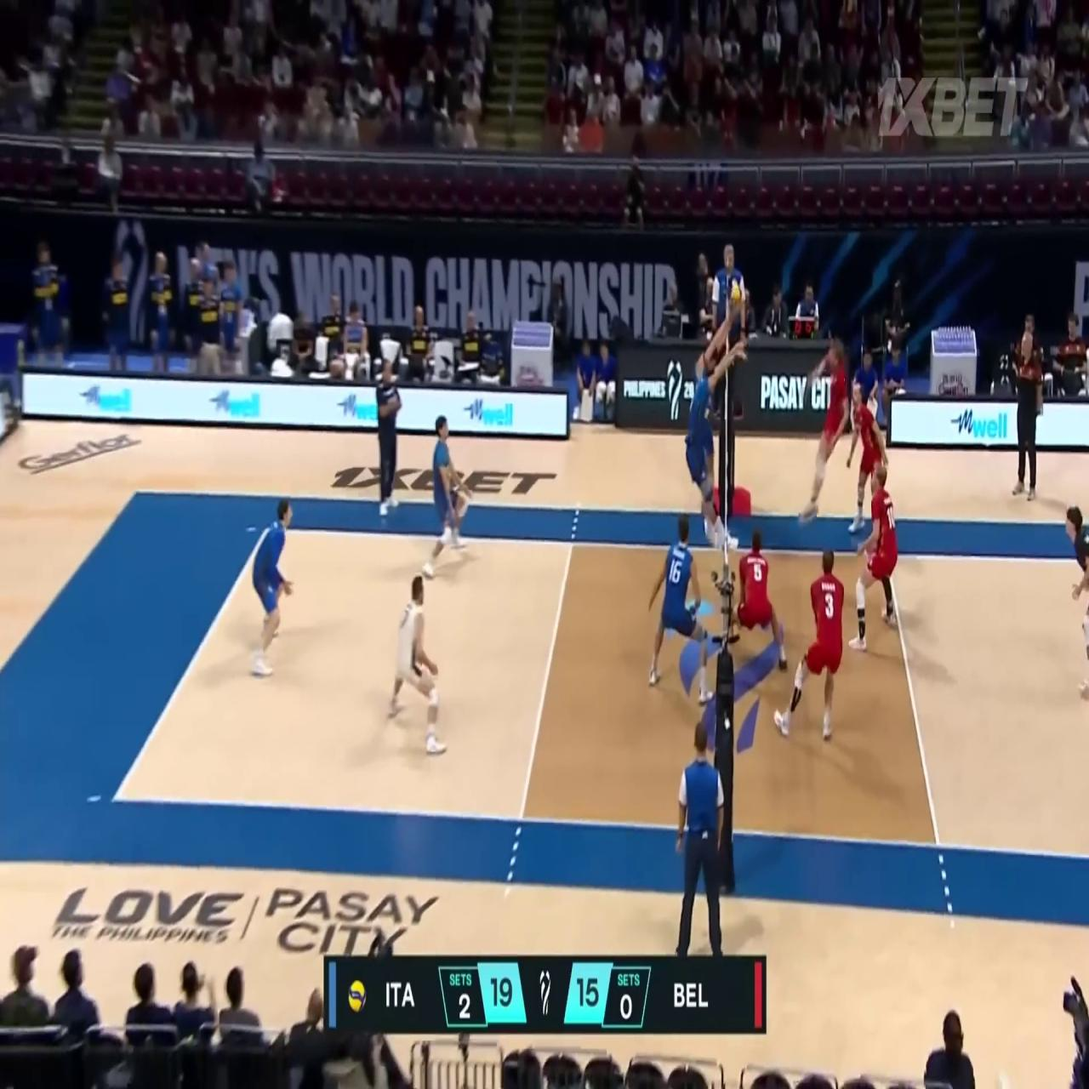ball: (731, 285, 742, 307)
